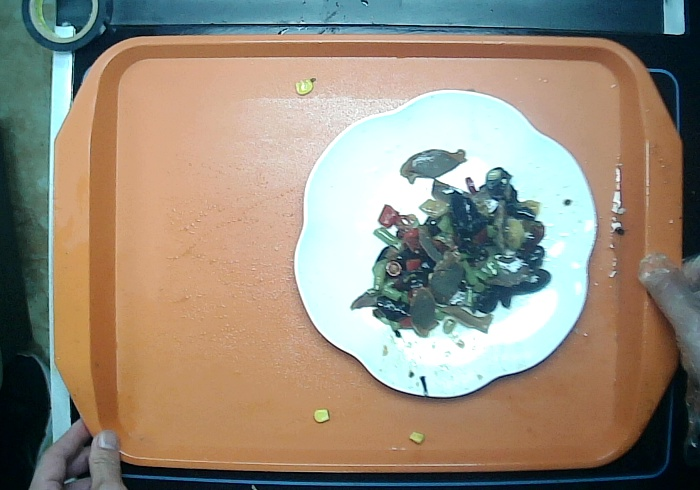HZYJPL-Bai_Se_Hua_Duo_Wan: (293, 87, 598, 401)
